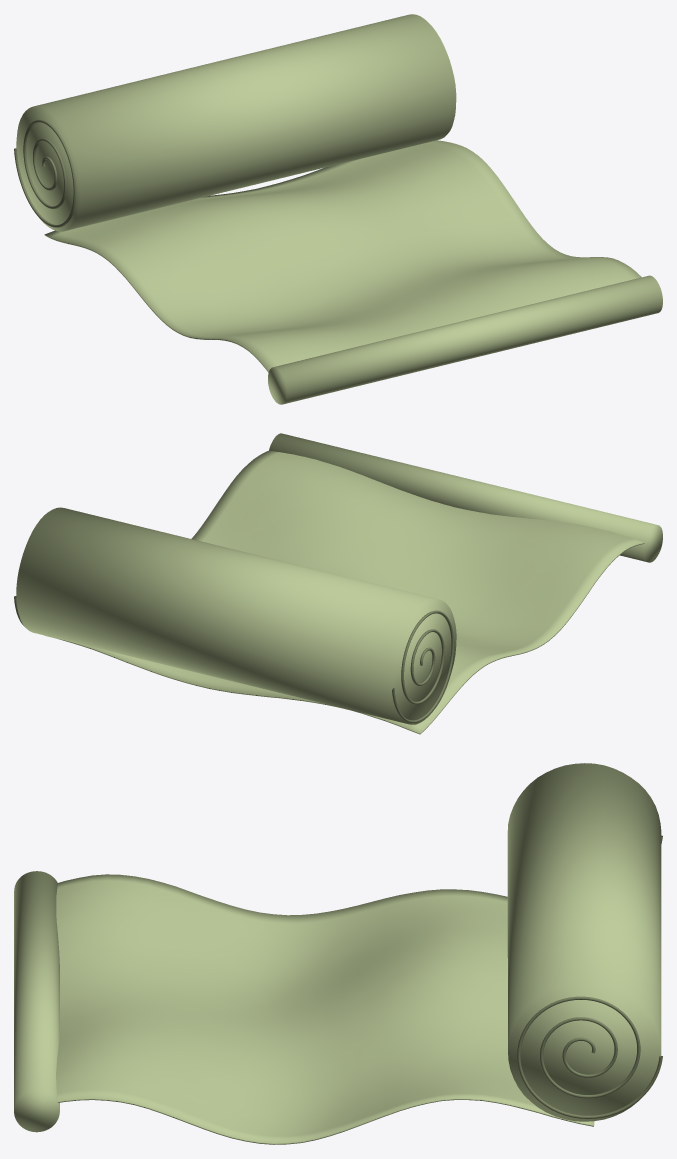
The picture shows the model from 3 angles, top to bottom: view 1: azimuth 30°, elevation 25°; view 2: azimuth 150°, elevation 25°; view 3: azimuth 270°, elevation 25°; orthographic projection. The views are drawn at different scales.
Visible parts, largest first — view 1: TI012 / editable draped woven sheet, TI012 / rolled cloth body, TI012 / partially rolled lower edge, TI012 / visible spiral selvage; view 2: TI012 / rolled cloth body, TI012 / editable draped woven sheet, TI012 / partially rolled lower edge, TI012 / visible spiral selvage; view 3: TI012 / editable draped woven sheet, TI012 / rolled cloth body, TI012 / partially rolled lower edge, TI012 / visible spiral selvage.001.
Part boxes in pixels (bbox=[...]): TI012 / editable draped woven sheet: bbox=[44, 140, 641, 372]; TI012 / rolled cloth body: bbox=[16, 14, 456, 231]; TI012 / partially rolled lower edge: bbox=[268, 275, 662, 404]; TI012 / visible spiral selvage: bbox=[14, 119, 76, 227]; TI012 / rolled cloth body: bbox=[16, 507, 456, 724]; TI012 / editable draped woven sheet: bbox=[45, 450, 644, 734]; TI012 / partially rolled lower edge: bbox=[269, 433, 662, 562]; TI012 / visible spiral selvage: bbox=[392, 610, 454, 723]; TI012 / editable draped woven sheet: bbox=[47, 874, 594, 1144]; TI012 / rolled cloth body: bbox=[507, 763, 661, 1121]; TI012 / partially rolled lower edge: bbox=[14, 871, 59, 1132]; TI012 / visible spiral selvage.001: bbox=[517, 996, 662, 1118].
Bounding box in the file's own units: 2.73 × 0.9334 × 3.38.
